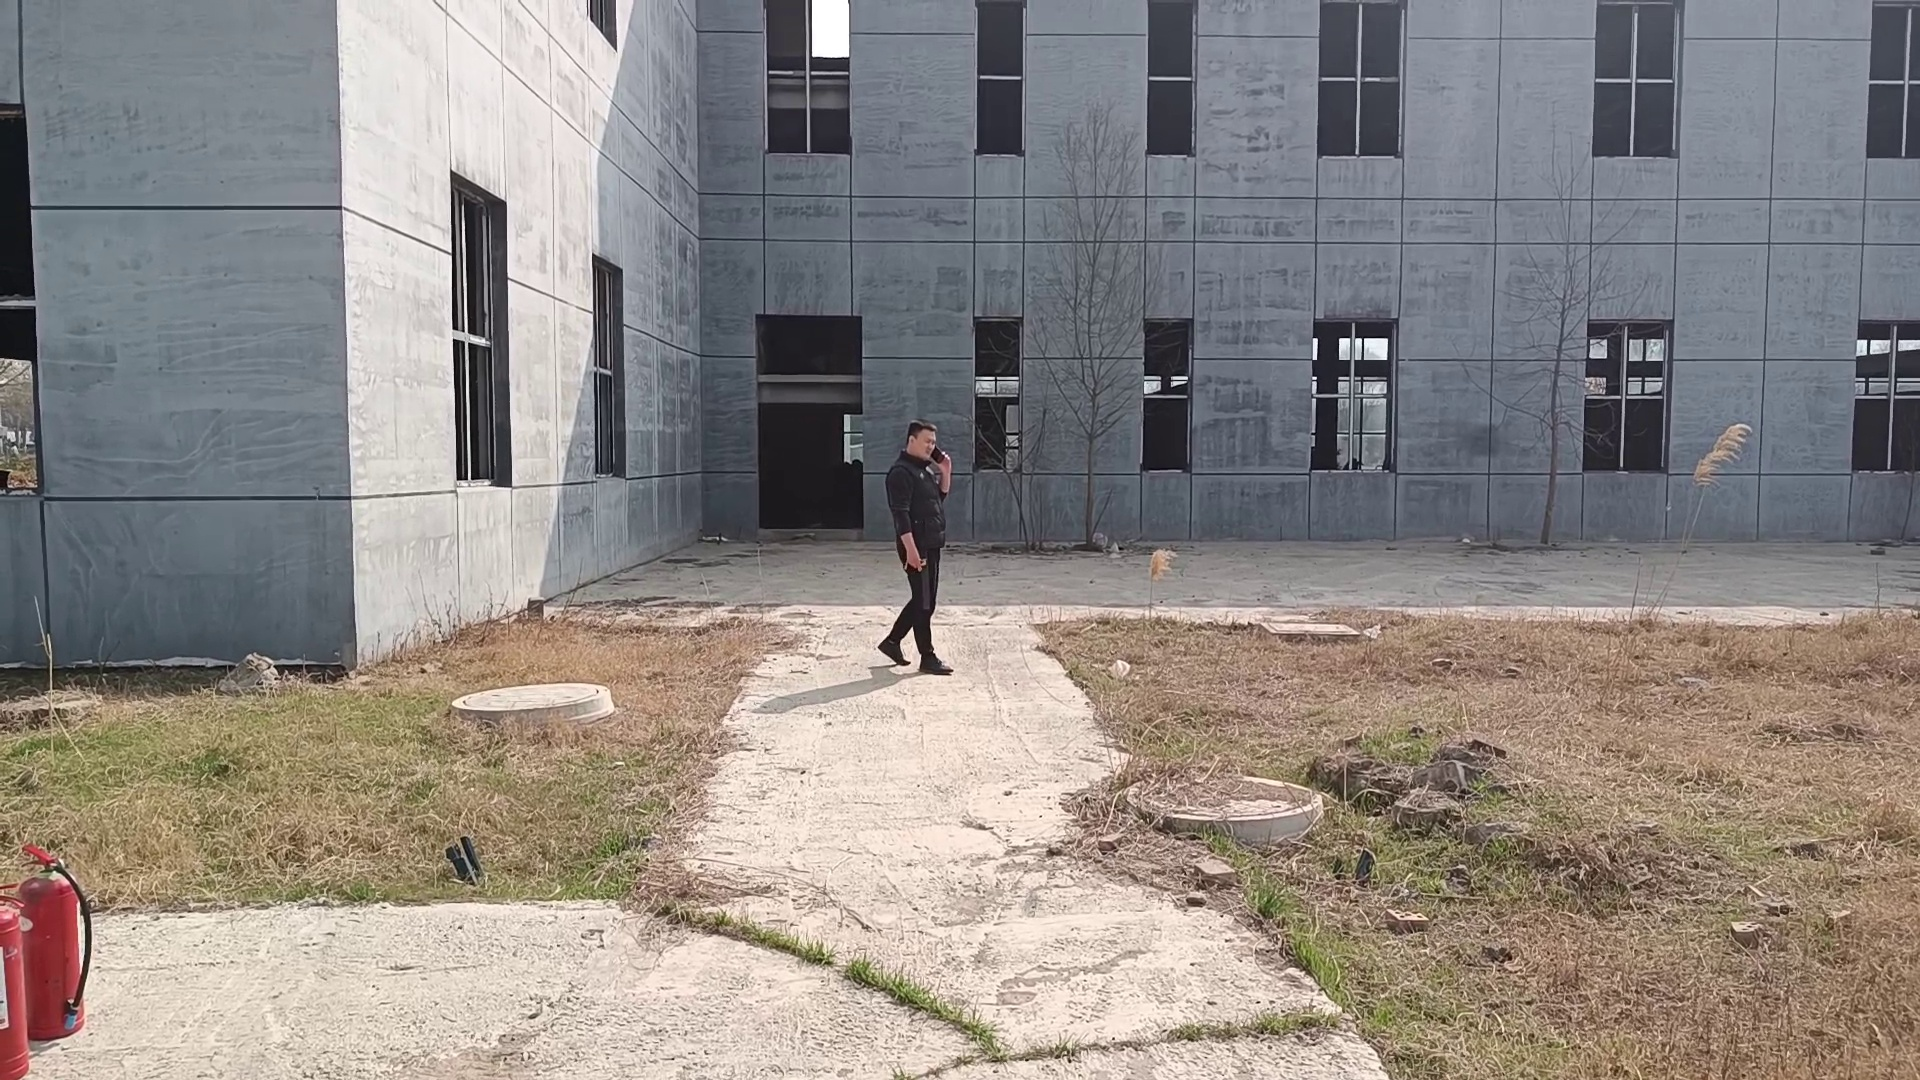phone: (907, 415, 945, 473)
